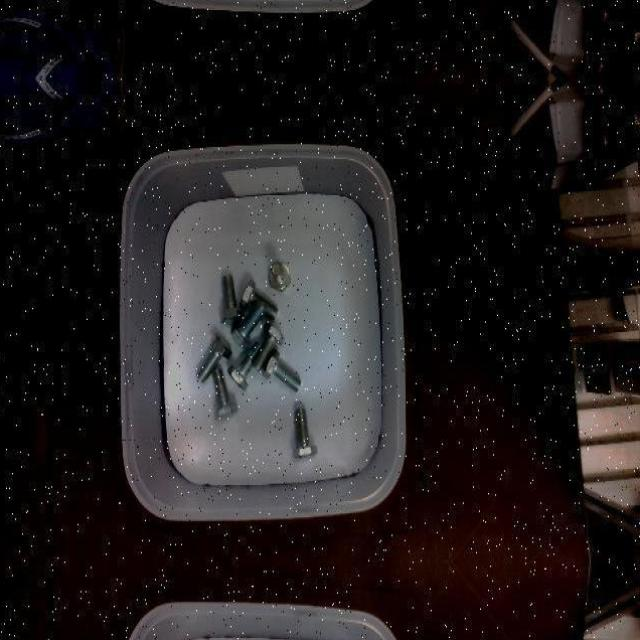screw: (196, 333, 234, 383), (230, 299, 266, 349), (263, 348, 302, 393), (252, 321, 284, 372), (212, 368, 238, 421), (220, 274, 244, 326), (294, 406, 318, 456), (268, 261, 290, 291)
